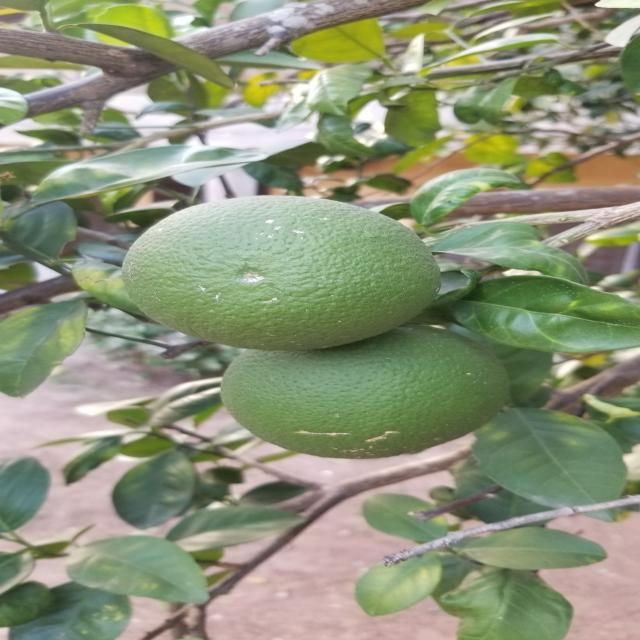Unripe: (111, 192, 434, 351), (212, 333, 526, 459)
